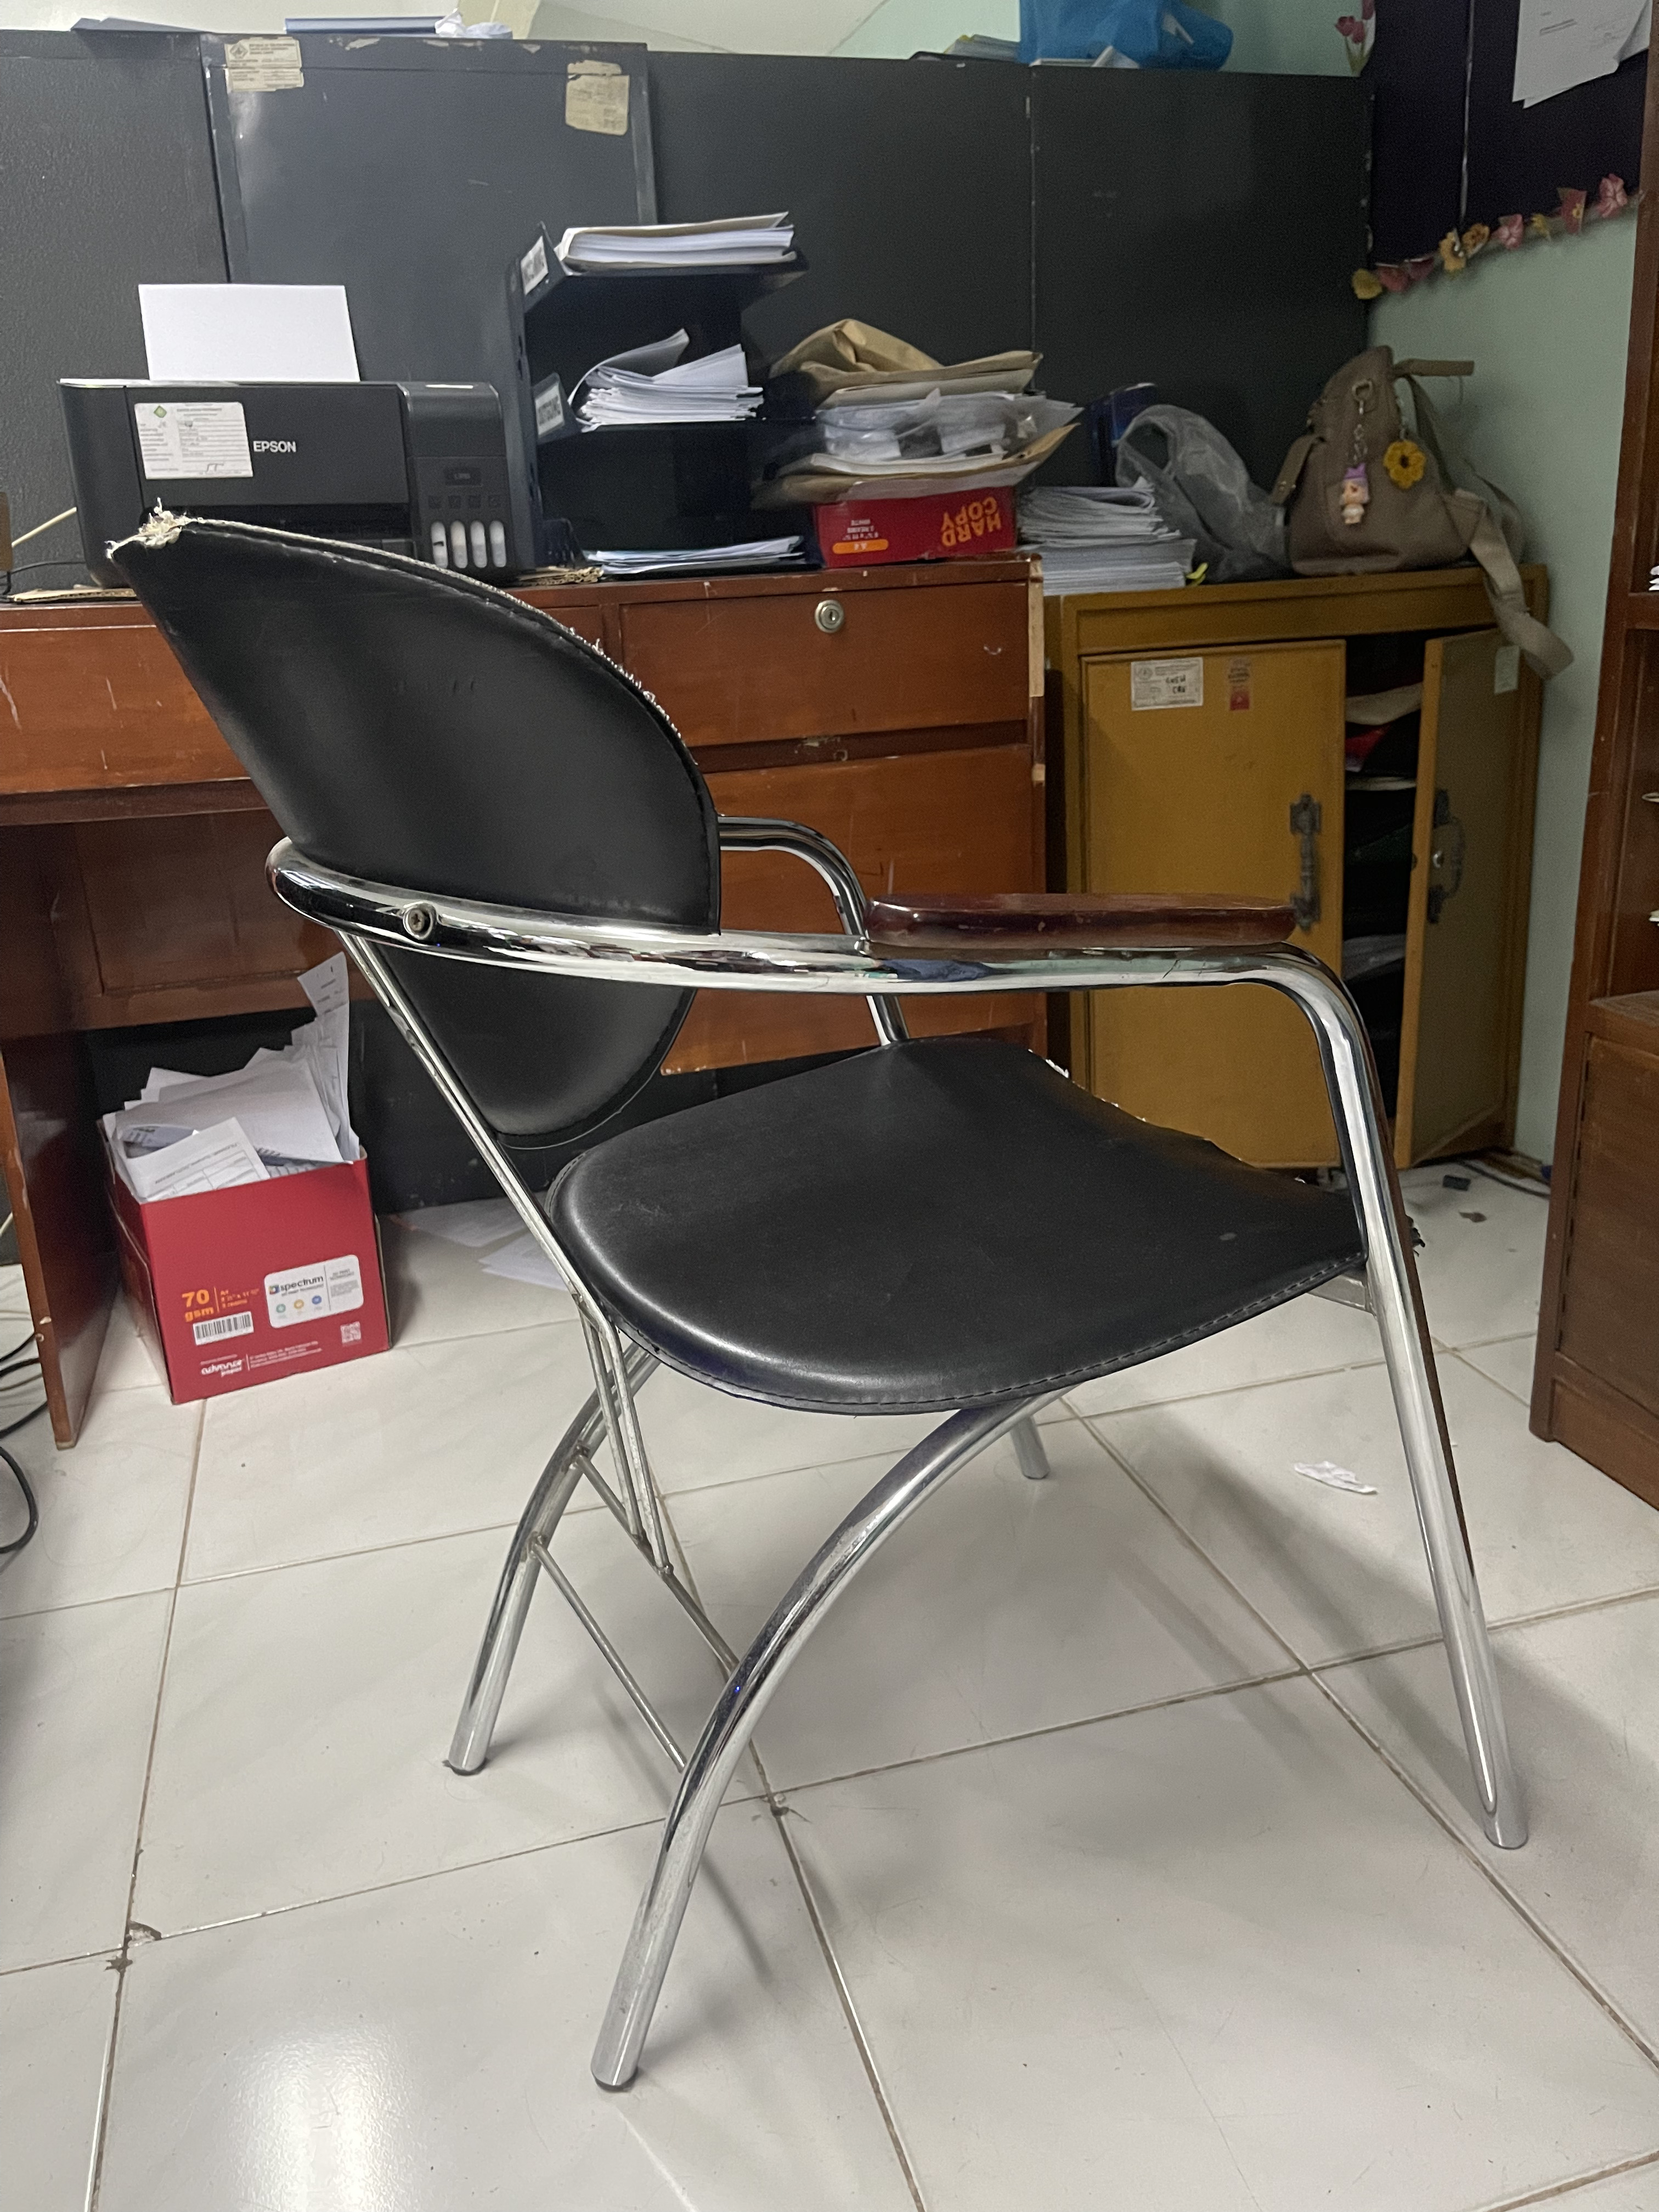chair1: (108, 510, 1535, 2102)
